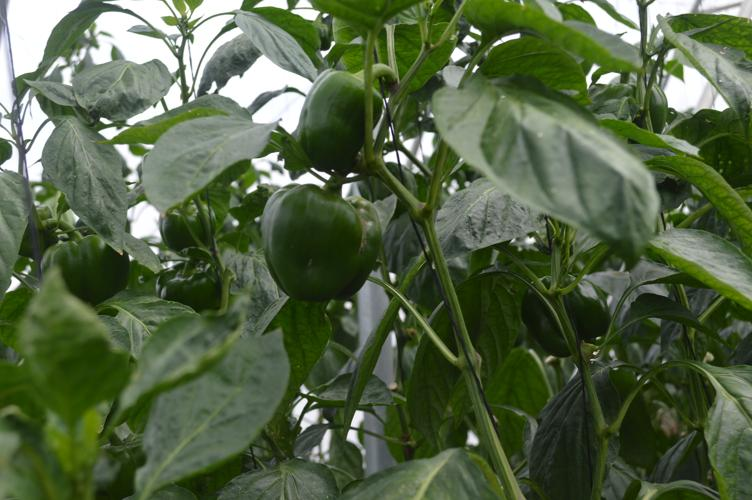BellPepper: (257, 185, 378, 308), (291, 69, 382, 164), (521, 276, 613, 355), (41, 239, 129, 301), (603, 71, 664, 133), (146, 262, 226, 306), (150, 200, 215, 247)
